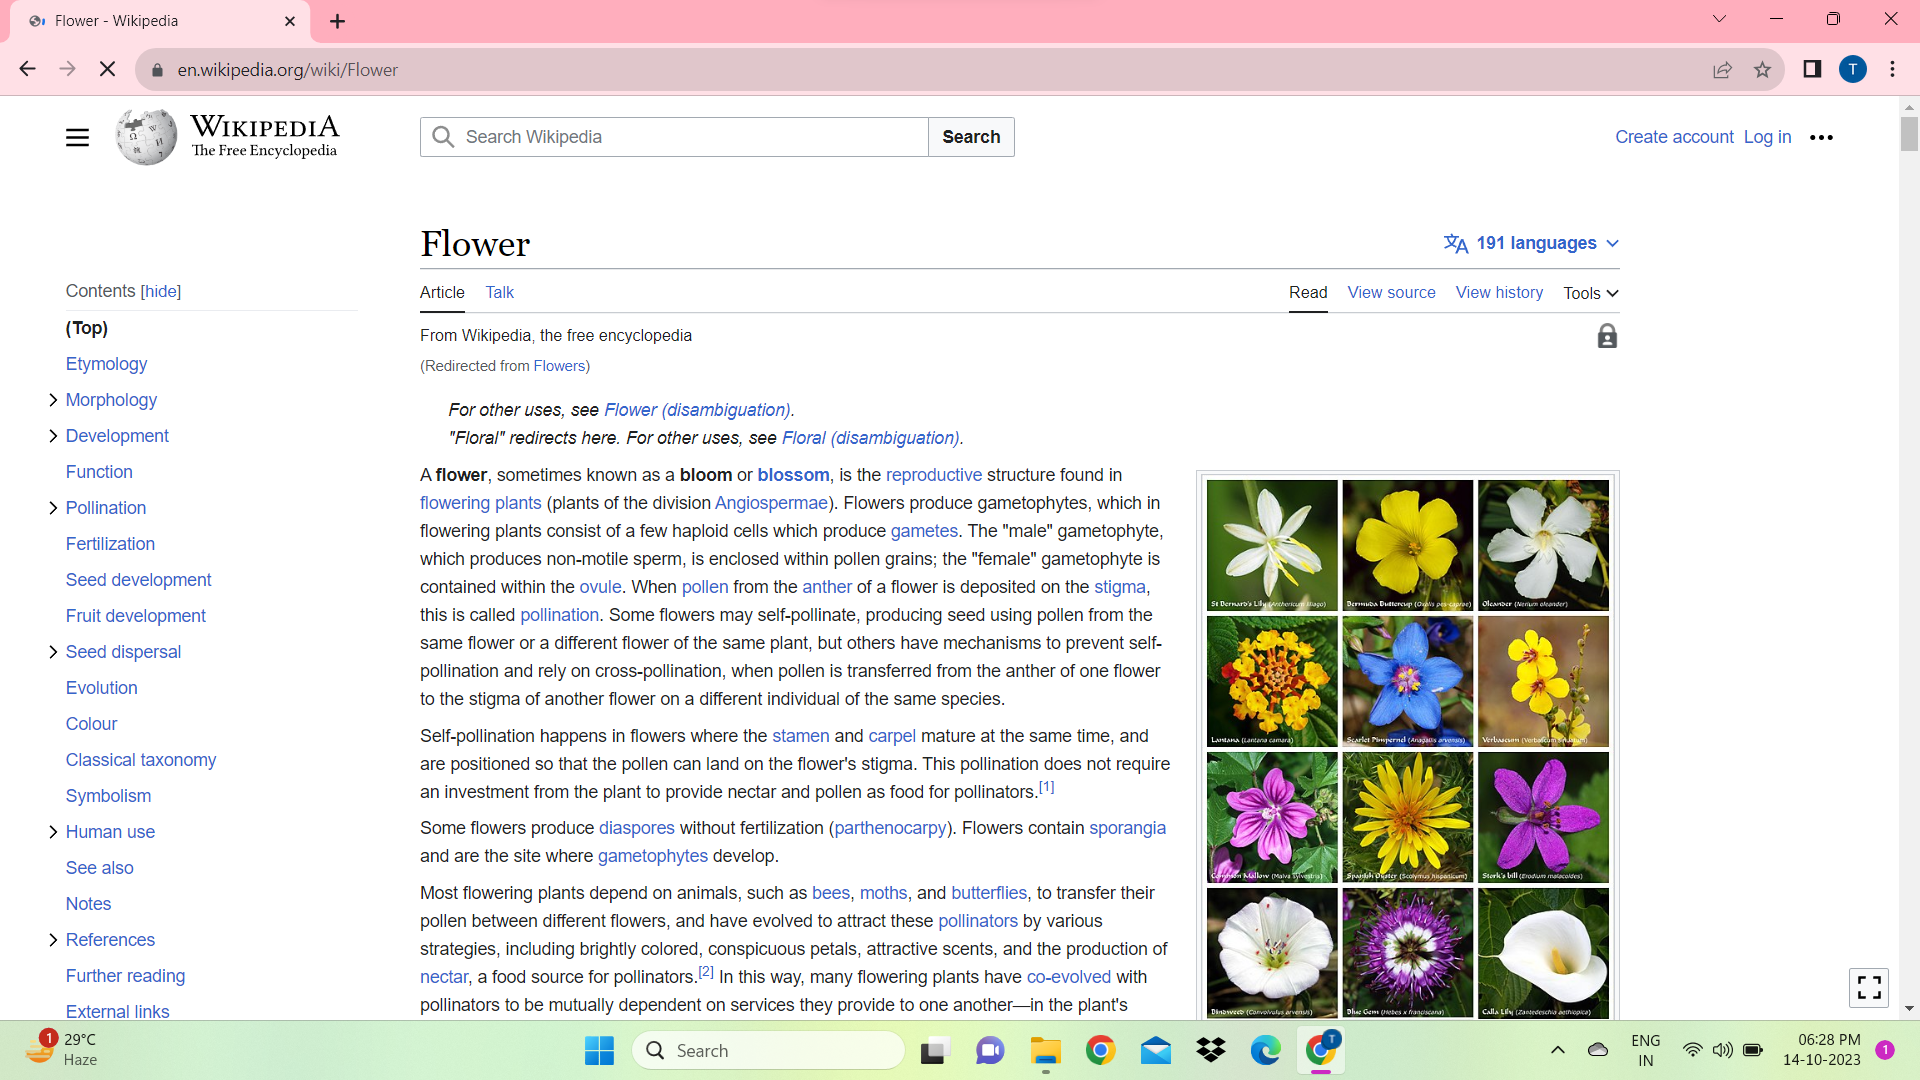Image: (1188, 471, 1631, 1022)
Paragraph: (411, 462, 1171, 709), (410, 876, 1171, 1014), (411, 720, 1178, 804), (411, 815, 1174, 868), (438, 423, 973, 454), (451, 388, 831, 423), (417, 211, 537, 264), (54, 742, 224, 773), (58, 272, 196, 309), (65, 566, 218, 597), (62, 960, 187, 997), (61, 418, 179, 451), (57, 530, 175, 559), (58, 922, 166, 951), (1452, 281, 1551, 313), (61, 489, 152, 522), (58, 607, 214, 625), (58, 349, 166, 376), (58, 641, 187, 662), (51, 818, 164, 841), (51, 311, 128, 345), (67, 384, 160, 411), (62, 781, 157, 807), (54, 852, 145, 878), (1348, 281, 1437, 305), (54, 462, 140, 485), (58, 673, 142, 695), (1561, 285, 1629, 309), (62, 709, 132, 732), (62, 1005, 179, 1018), (54, 891, 123, 910), (1275, 281, 1336, 299)
